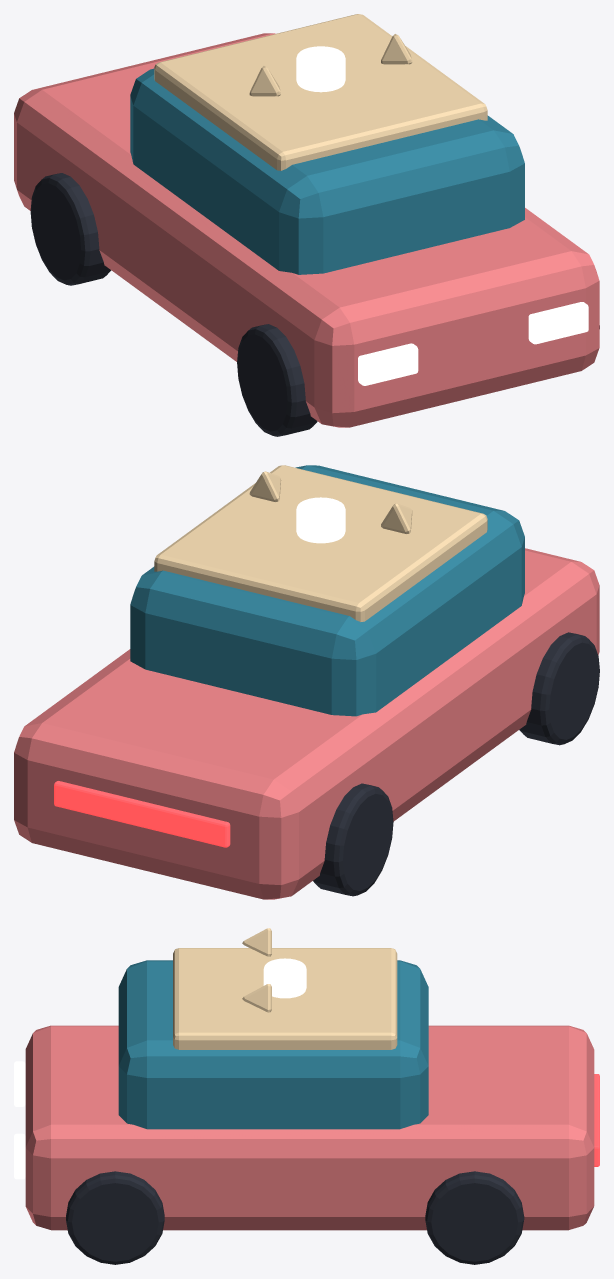
The model's file is SM_SolCity_AutonomousCar_01.fbx.
3 views of the same model, one above another, from view 1: azimuth 30°, elevation 25°; view 2: azimuth 150°, elevation 25°; view 3: azimuth 270°, elevation 25° (orthographic). The views are drawn at different scales.
Parts seen in each view (by area): view 1: Car_LowerBody, Car_Cabin, Car_Roof, Car_Wheel_-1_1.1, Car_Wheel_-1_-1.08, Car_Lidar, Car_Headlight_-1, Car_Headlight_1, Car_Ear_1, Car_Ear_-1; view 2: Car_LowerBody, Car_Cabin, Car_Roof, Car_Wheel_-1_1.1, Car_Wheel_-1_-1.08, Car_RearLight, Car_Lidar, Car_Ear_-1, Car_Ear_1; view 3: Car_LowerBody, Car_Cabin, Car_Roof, Car_Wheel_1_1.1, Car_Wheel_1_-1.08, Car_Lidar, Car_RearLight, Car_Headlight_1, Car_Headlight_-1, Car_Ear_-1, Car_Ear_1.
Part boxes in pixels (x1,y1,x2,y2): Car_LowerBody: [14, 33, 599, 427]; Car_Cabin: [130, 68, 524, 274]; Car_Roof: [154, 14, 487, 170]; Car_Wheel_-1_1.1: [30, 173, 111, 285]; Car_Wheel_-1_-1.08: [237, 324, 317, 436]; Car_Lidar: [296, 46, 345, 92]; Car_Headlight_-1: [358, 343, 418, 385]; Car_Headlight_1: [528, 302, 588, 344]; Car_Ear_1: [381, 34, 412, 64]; Car_Ear_-1: [249, 66, 280, 96]; Car_LowerBody: [14, 548, 599, 899]; Car_Cabin: [130, 465, 524, 716]; Car_Roof: [154, 465, 487, 621]; Car_Wheel_-1_1.1: [313, 783, 393, 896]; Car_Wheel_-1_-1.08: [519, 632, 599, 745]; Car_RearLight: [54, 781, 230, 847]; Car_Lidar: [296, 497, 345, 543]; Car_Ear_-1: [381, 503, 412, 533]; Car_Ear_1: [249, 471, 281, 501]; Car_LowerBody: [25, 1025, 594, 1230]; Car_Cabin: [118, 960, 428, 1129]; Car_Roof: [173, 948, 397, 1049]; Car_Wheel_1_1.1: [425, 1171, 524, 1264]; Car_Wheel_1_-1.08: [66, 1171, 164, 1264]; Car_Lidar: [263, 958, 306, 998]; Car_RearLight: [594, 1074, 599, 1166]; Car_Headlight_1: [14, 1133, 25, 1179]; Car_Headlight_-1: [14, 1061, 25, 1106]; Car_Ear_-1: [242, 928, 271, 956]; Car_Ear_1: [242, 984, 271, 1012].
Size of the model in its own units: 1.9 by 3.56 by 1.64.
